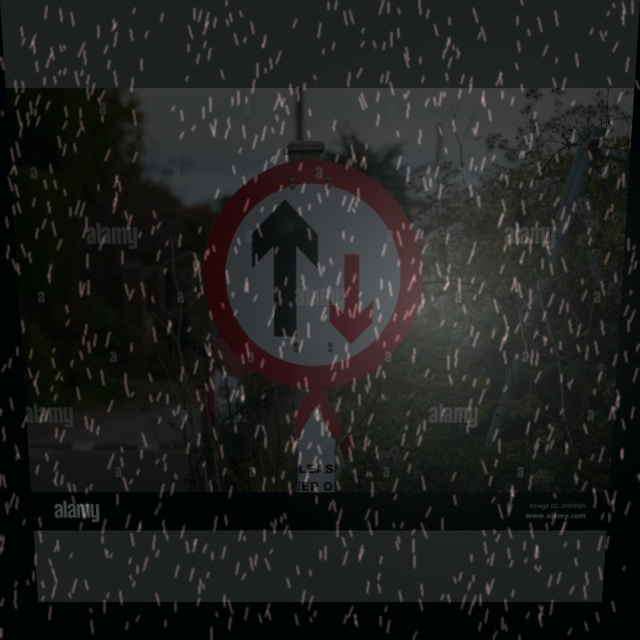Priority_for_Oncoming_Traffic: (201, 159, 425, 388)
